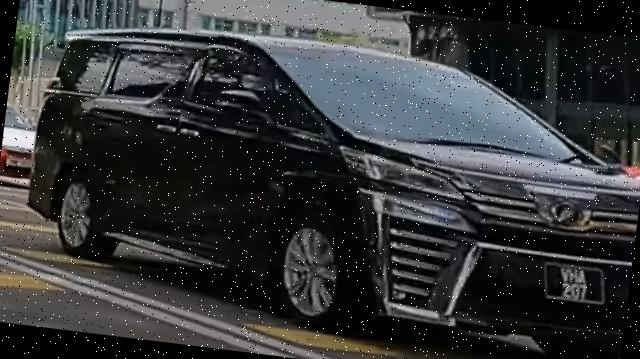License_Plate: (540, 259, 610, 307)
car: (15, 6, 640, 359), (1, 98, 40, 186)
